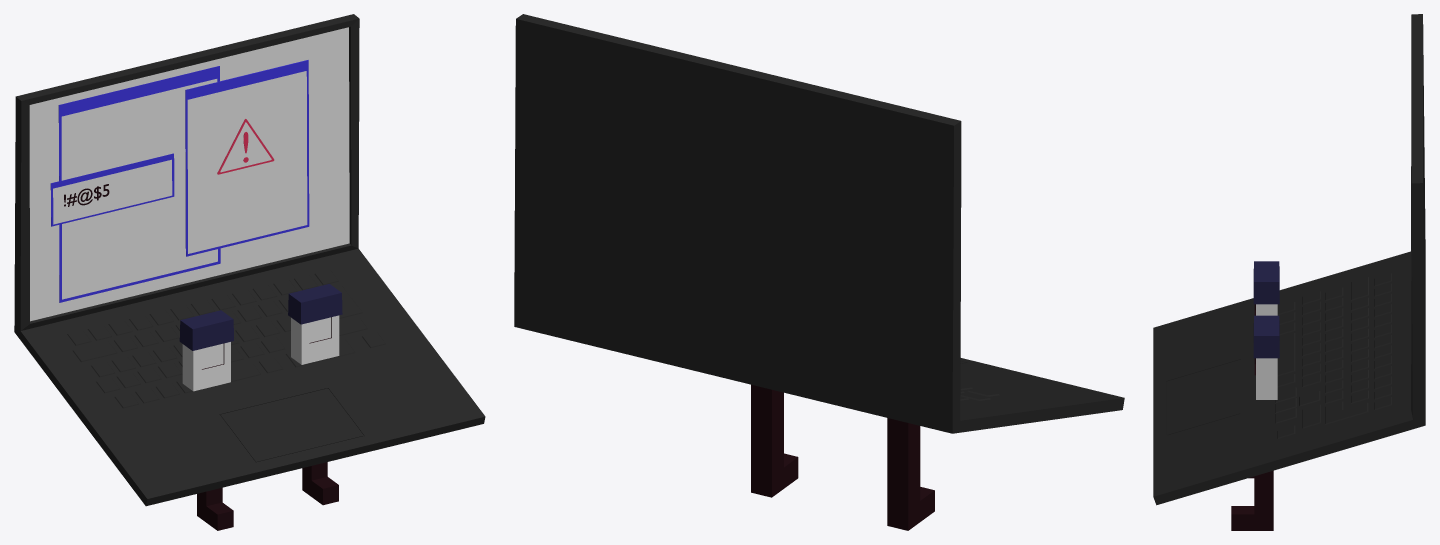
Rendered from 4th boss.fbx.
The picture shows the model from 3 angles, left to right: view 1: azimuth 30°, elevation 25°; view 2: azimuth 150°, elevation 25°; view 3: azimuth 270°, elevation 25°; orthographic projection. The views are drawn at different scales.
Parts seen in each view (by area): view 1: Cube; view 2: Cube; view 3: Cube.
Boxes of the visible parts, x1=… form: Cube: x1=14, y1=14, x2=485, y2=530; Cube: x1=514, y1=14, x2=1124, y2=530; Cube: x1=1153, y1=14, x2=1425, y2=530.
Bounding box in the file's own units: 282 × 313 × 192.
